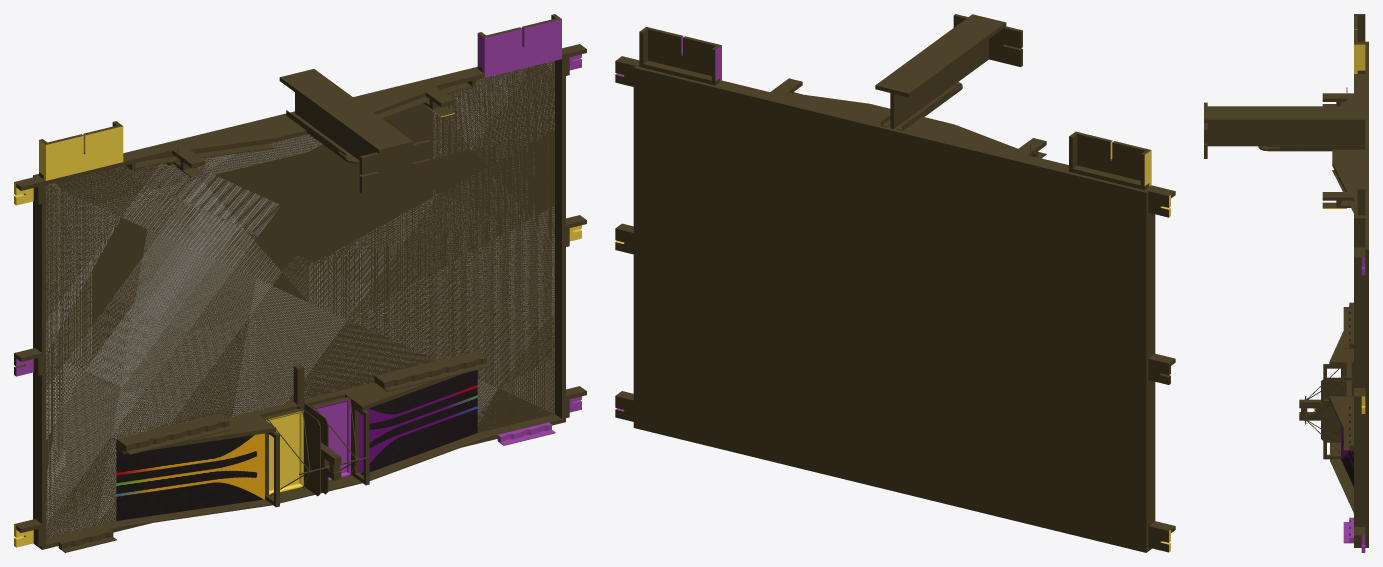
The picture shows the model from 3 angles, left to right: view 1: azimuth 30°, elevation 25°; view 2: azimuth 150°, elevation 25°; view 3: azimuth 270°, elevation 25°; orthographic projection. The views are drawn at different scales.
Visible parts, largest first — view 1: skp1QrTY0 (×21); view 2: skp1QrTY0 (×5); view 3: skp1QrTY0 (×15).
Boxes of the visible parts, left/top/right/bottom form: skp1QrTY0 (×21): left=33, top=14, right=565, bottom=552; skp1QrTY0 (×5): left=633, top=14, right=1155, bottom=552; skp1QrTY0 (×15): left=1204, top=14, right=1368, bottom=547.
Size of the model in its own units: 129 by 40.24 by 89.72.
